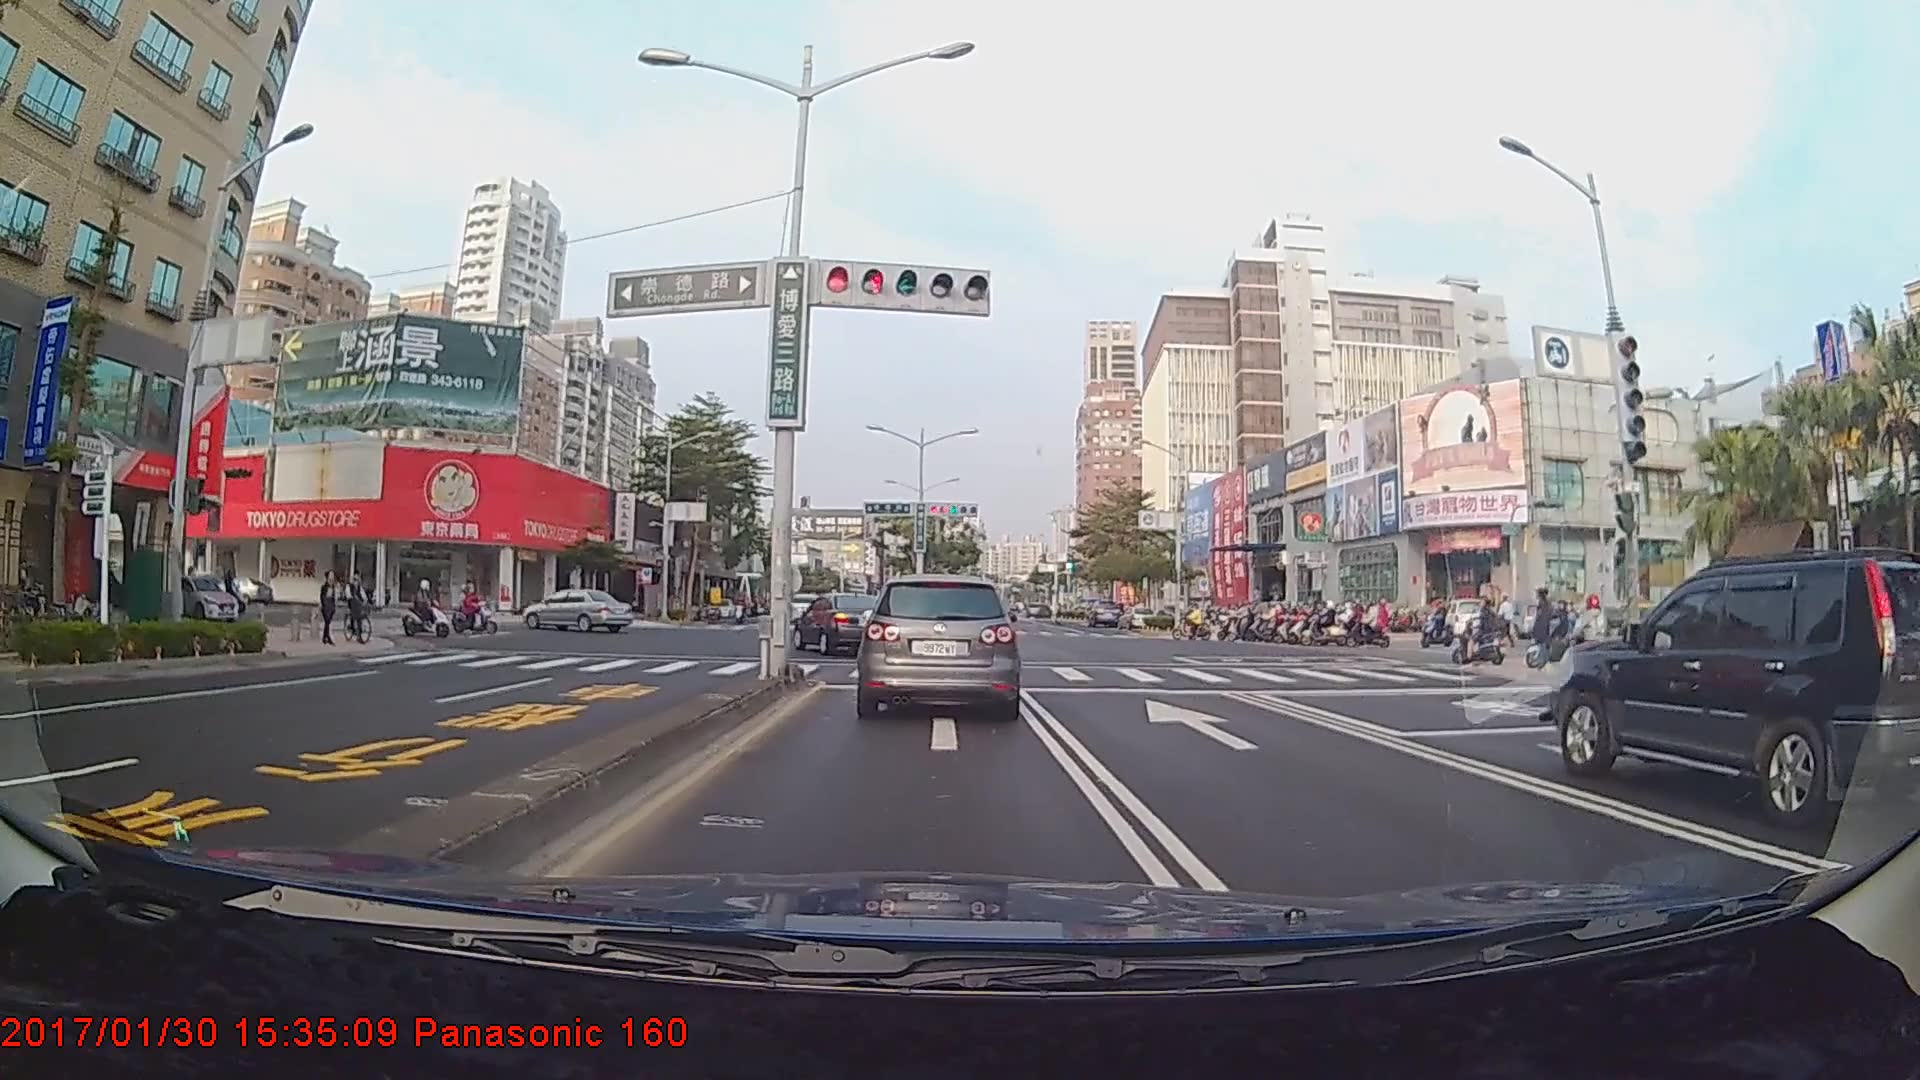pedestrian: (1529, 585, 1559, 677), (319, 565, 340, 649)
rider: (1452, 600, 1515, 665), (401, 578, 453, 642), (442, 577, 496, 634), (341, 566, 379, 643), (1352, 593, 1393, 649), (1311, 601, 1357, 647), (1176, 599, 1215, 639)
vehicle: (1546, 554, 1920, 828), (854, 568, 1023, 723), (793, 588, 893, 655), (522, 584, 633, 631), (1086, 597, 1123, 629)
